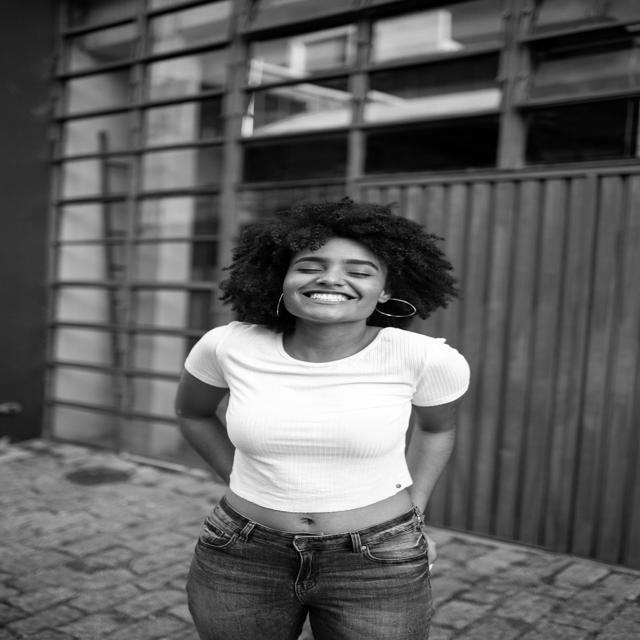Happiness: (277, 232, 388, 328)
